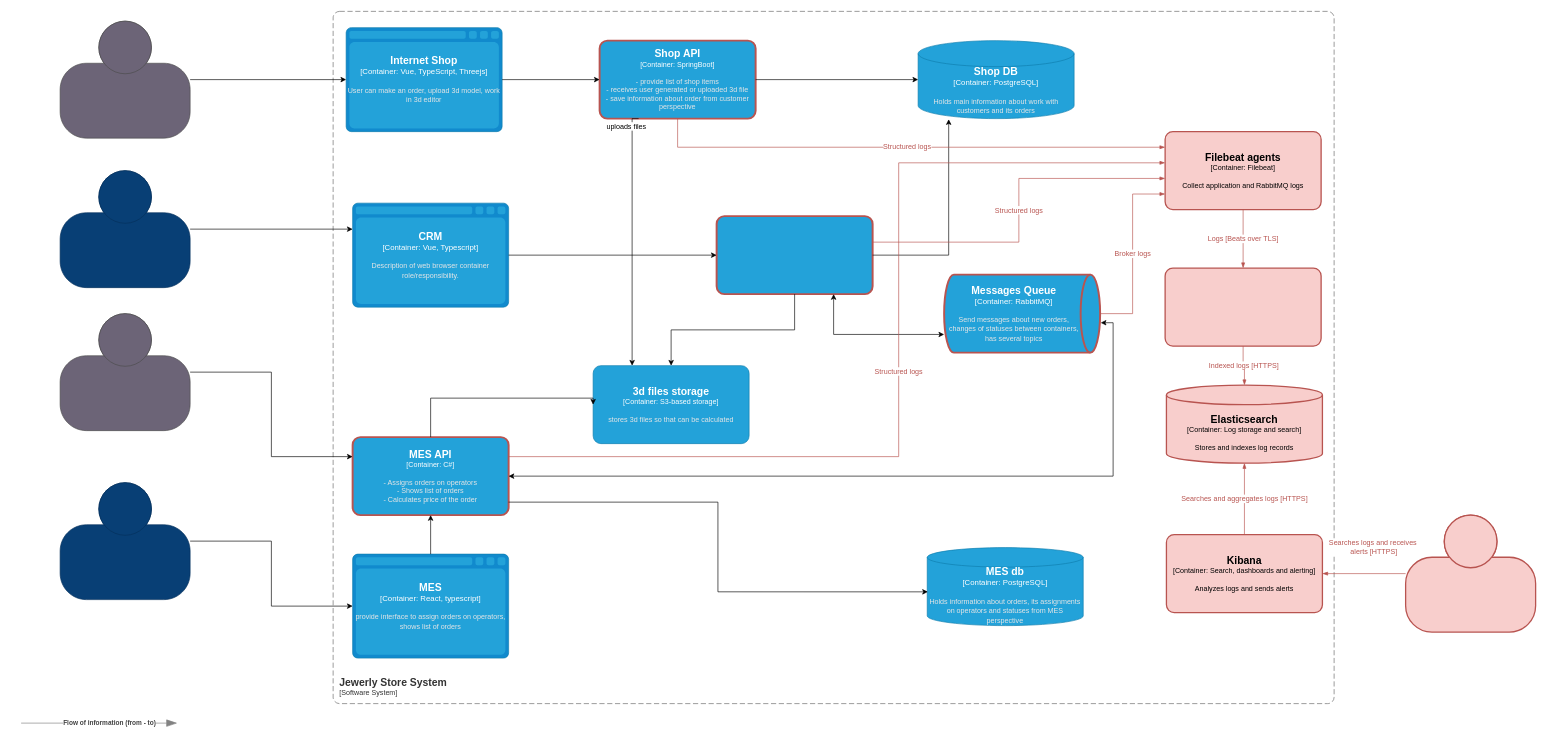
This 1548x745 diagram has some shape labels left out. The box of each missing label's shape, as (x1, y1, x2, y2) in pixels:
API user [Person] Description of external person.: (59, 313, 190, 431)
CRM API [Container: SpringBoot] Description of container role/responsibility.: (715, 215, 873, 295)
Customer [Person] Description of external person.: (59, 20, 190, 138)
Logstash [Container: Logstash] Parses and normalizes log records: (1164, 267, 1321, 346)
Operator [Person] Takes order in work, manufactures jewerly: (59, 482, 190, 600)
Seller [Person] Operates with order, confirms manufacturing for the user: (59, 170, 190, 288)
Support [Person] Searches logs and investigates incidents: (1405, 514, 1536, 632)
